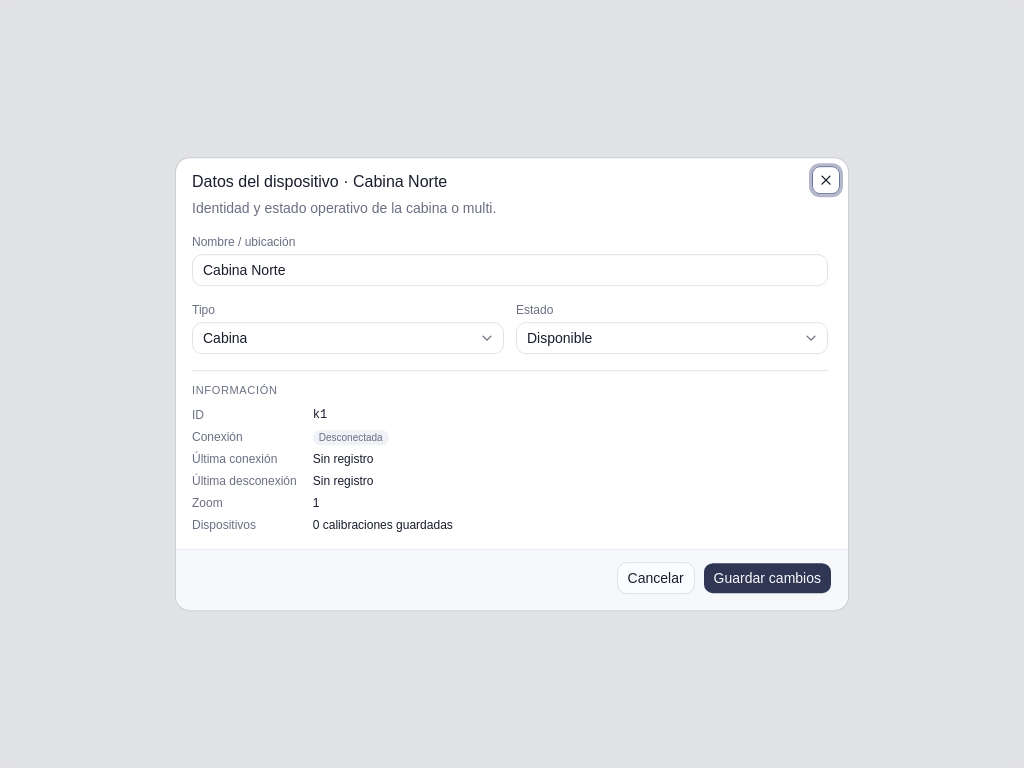
Test: KioskEditDialog › loads the kiosk, edits the device information and saves through the data endpoint
Check: the dialog shows "Datos del dispositivo · Cabina Norte", box [176, 158, 848, 610]
Replace the text in the field labelled "Nombre / ubicación" with "Cabina Norte 2" at (510, 270), box [192, 254, 828, 286]
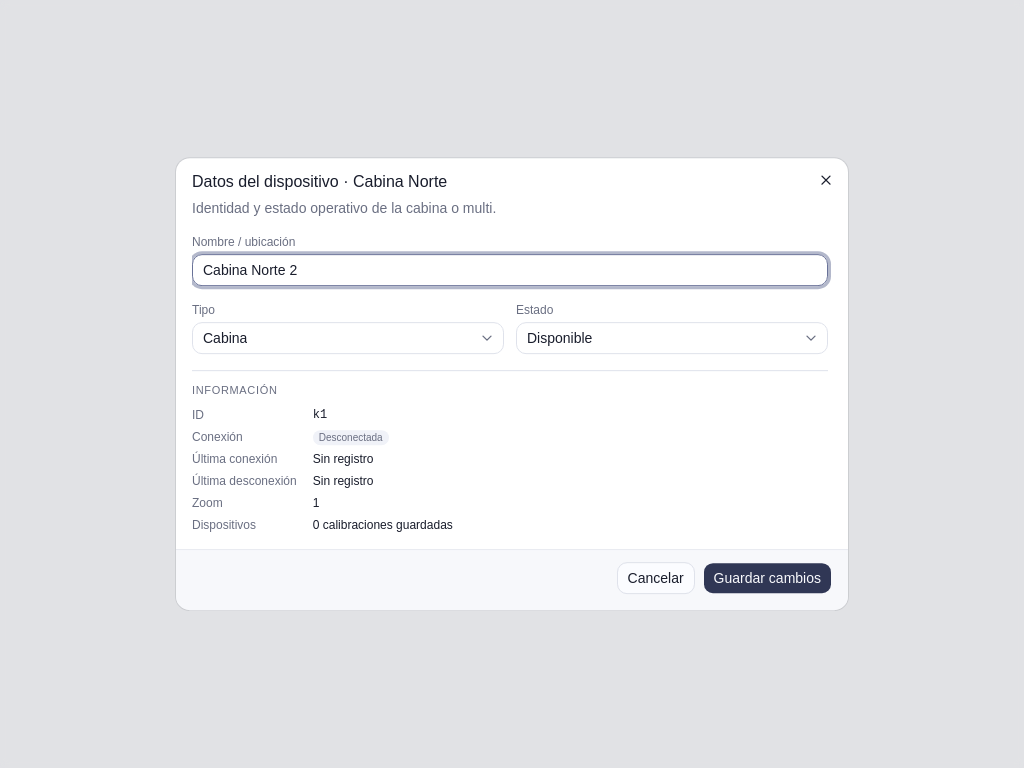
Click the dropdown named "Estado" at (560, 338), box [516, 322, 828, 354]
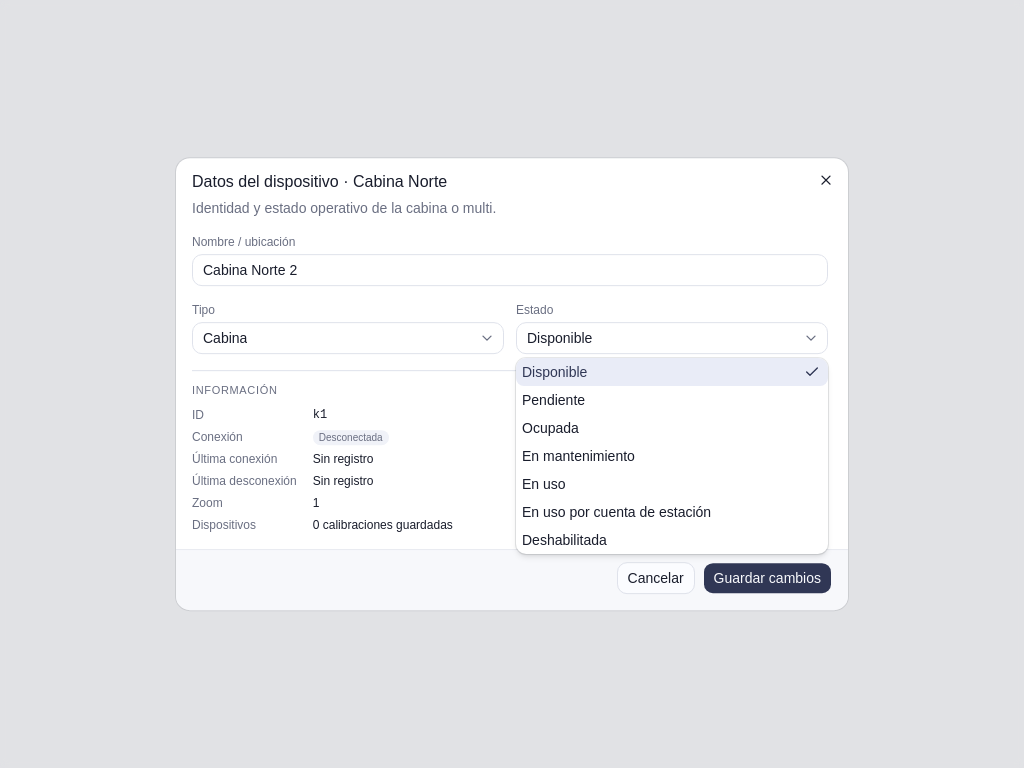
Click the option "En mantenimiento" at (578, 456), box [522, 448, 635, 464]
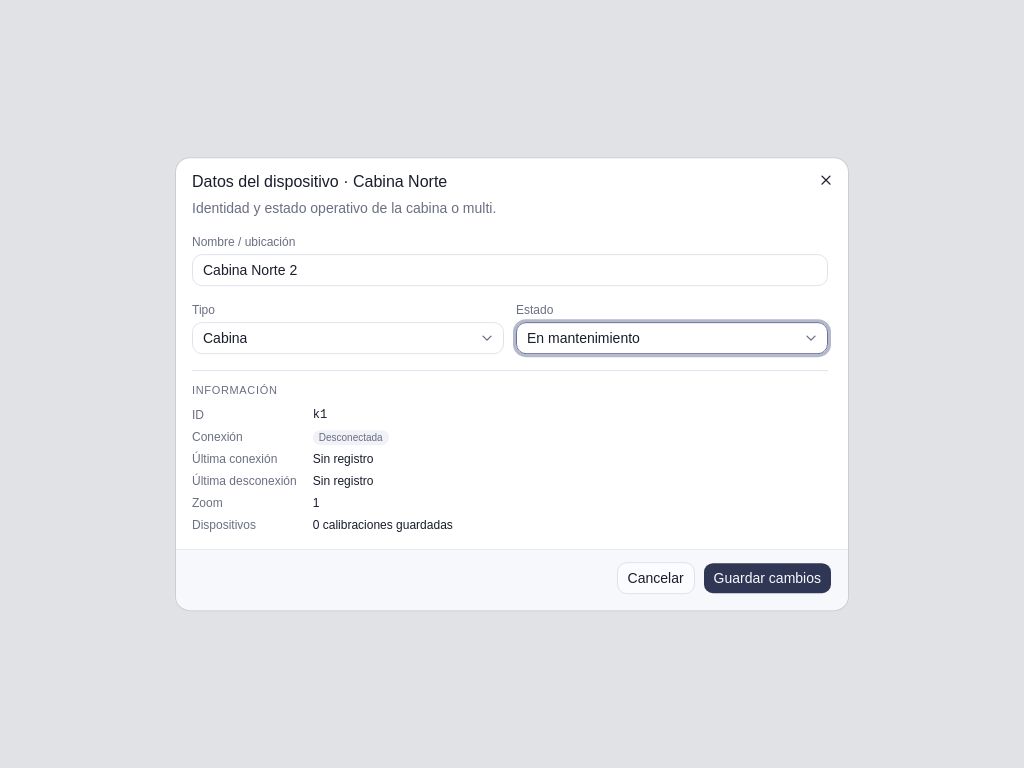
Click the button "Guardar cambios" at (767, 578), box [703, 562, 832, 594]
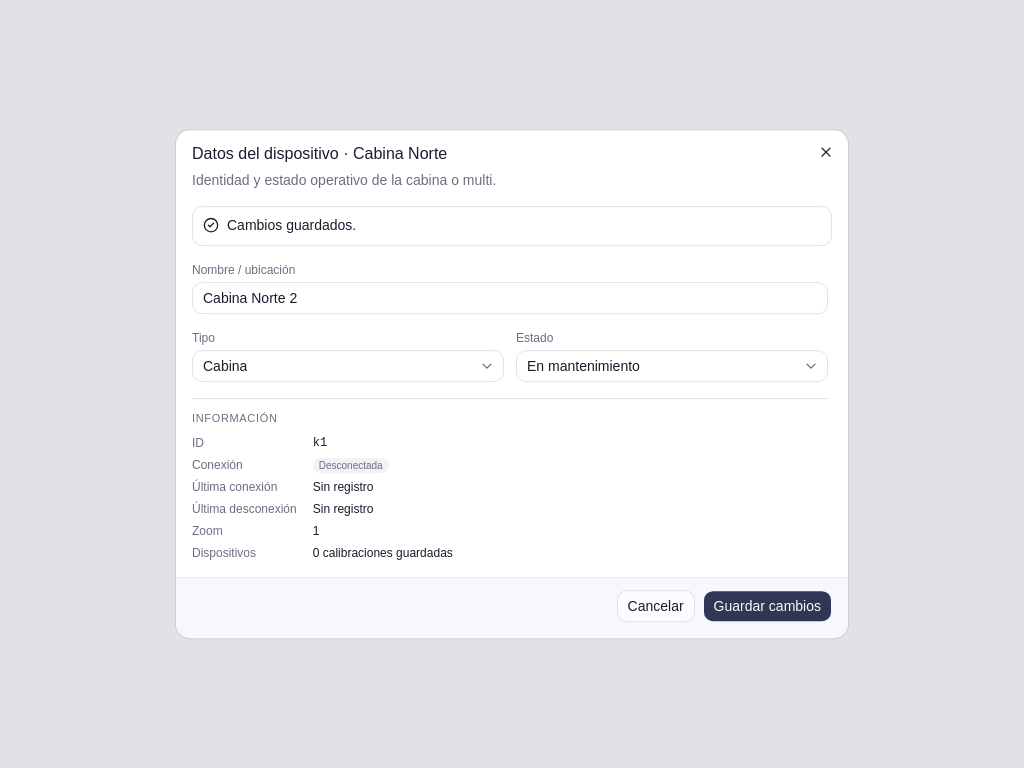
Check: the message reads "Cambios guardados.", box [227, 217, 356, 233]
